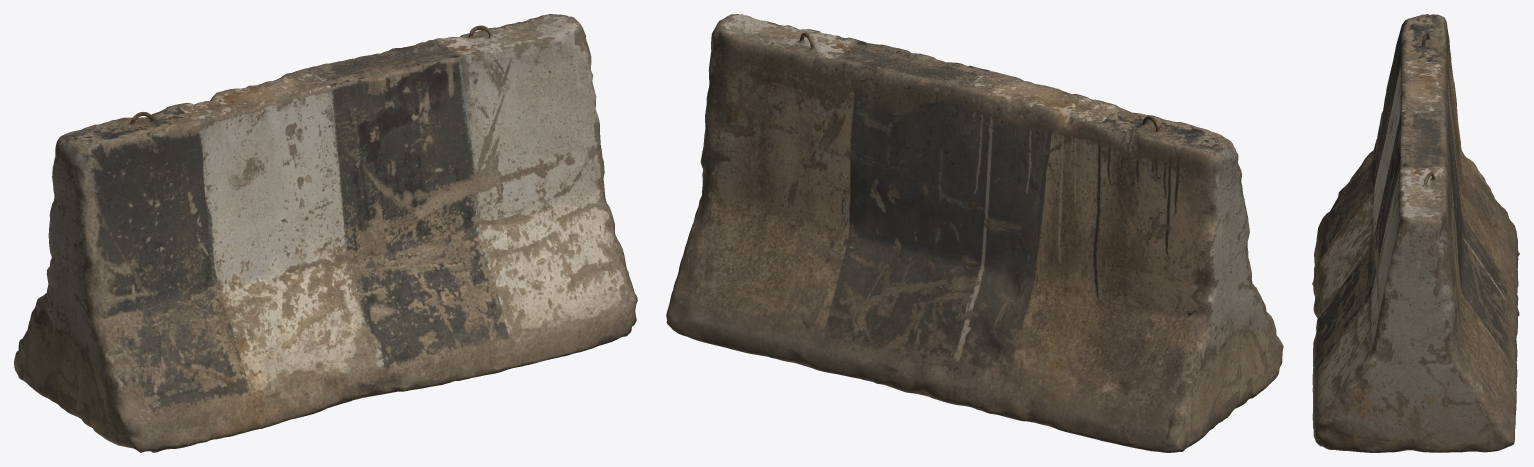
File: barrier.glb
3 views of the same model, side by side, from view 1: azimuth 30°, elevation 25°; view 2: azimuth 150°, elevation 25°; view 3: azimuth 270°, elevation 25° (orthographic). The views are drawn at different scales.
Parts seen in each view (by area): view 1: concrete_road_barrier_LOD1; view 2: concrete_road_barrier_LOD1; view 3: concrete_road_barrier_LOD1.
Boxes of the visible parts, bbox=[...] form: concrete_road_barrier_LOD1: bbox=[14, 14, 637, 452]; concrete_road_barrier_LOD1: bbox=[666, 14, 1283, 452]; concrete_road_barrier_LOD1: bbox=[1312, 14, 1519, 452].
Bounding box in the file's own units: 1.54 × 0.8311 × 0.6387.
1 material, 1 textured.
